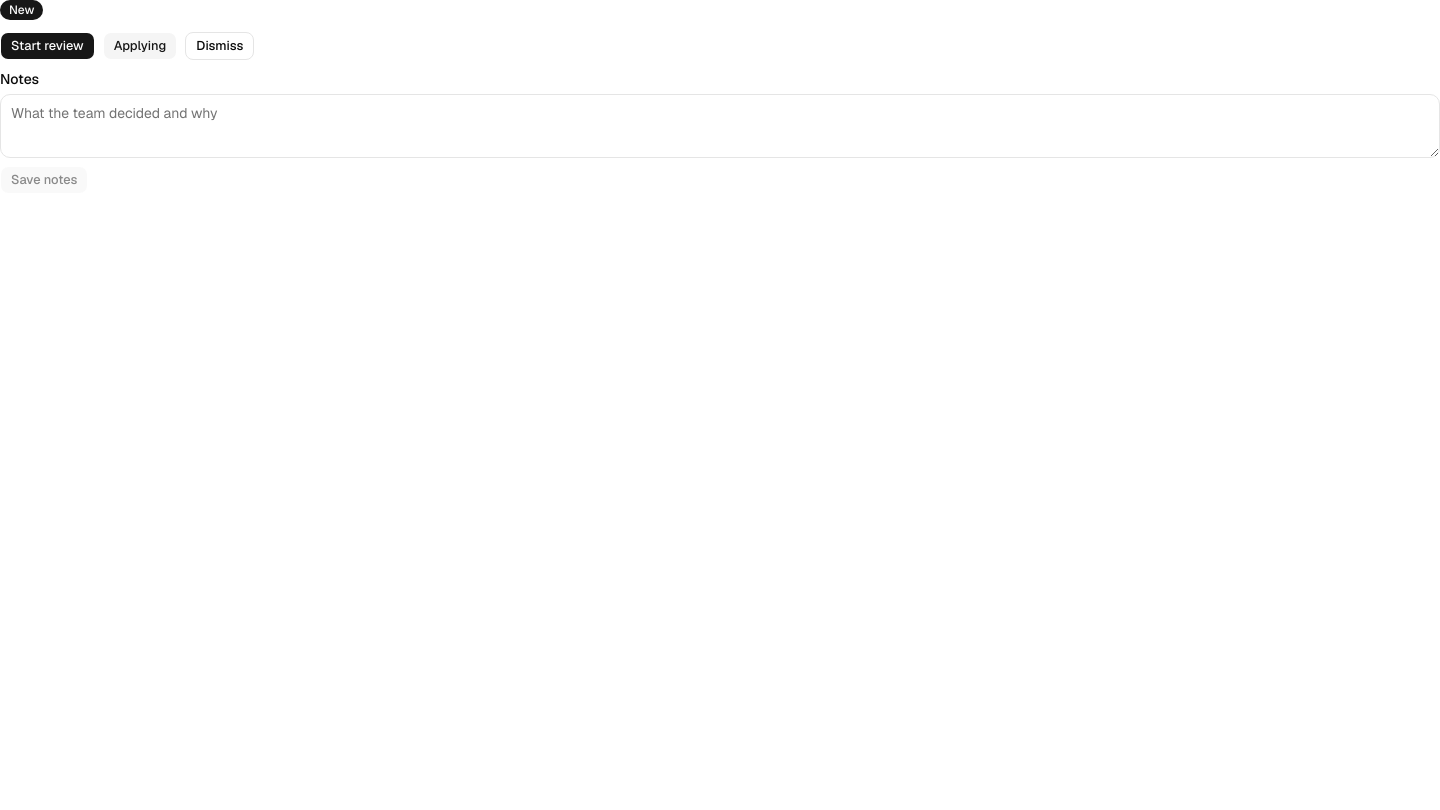
Test: MatchStatusControl › asks for a reason before dismissing
Click the button "Dismiss". click: (220, 46)
box: [185,32,254,60]
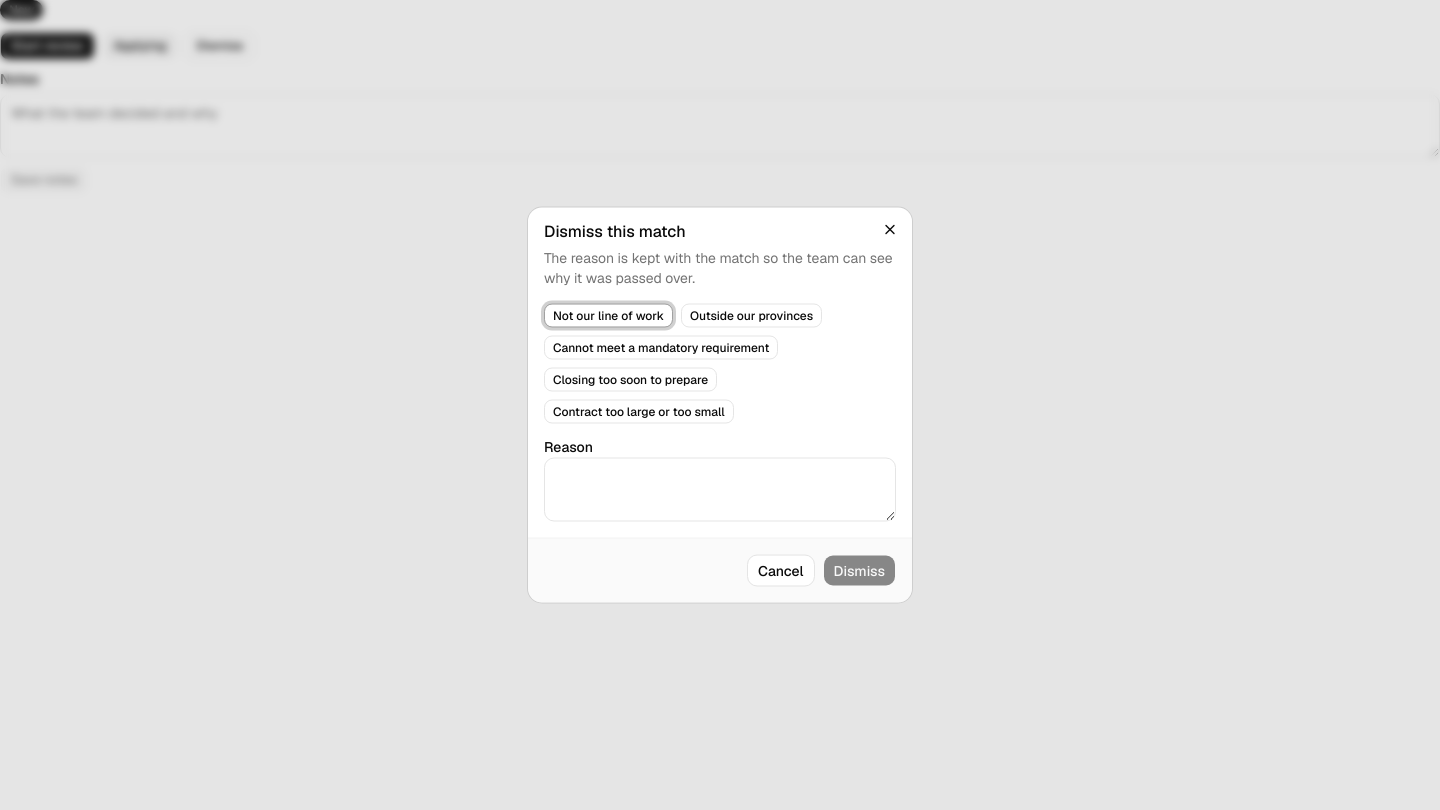
Check: the button "Dismiss" is disabled, box [823,554,896,586]
Click the button "Outside our provinces". click: (752, 316)
box: [681,304,822,328]
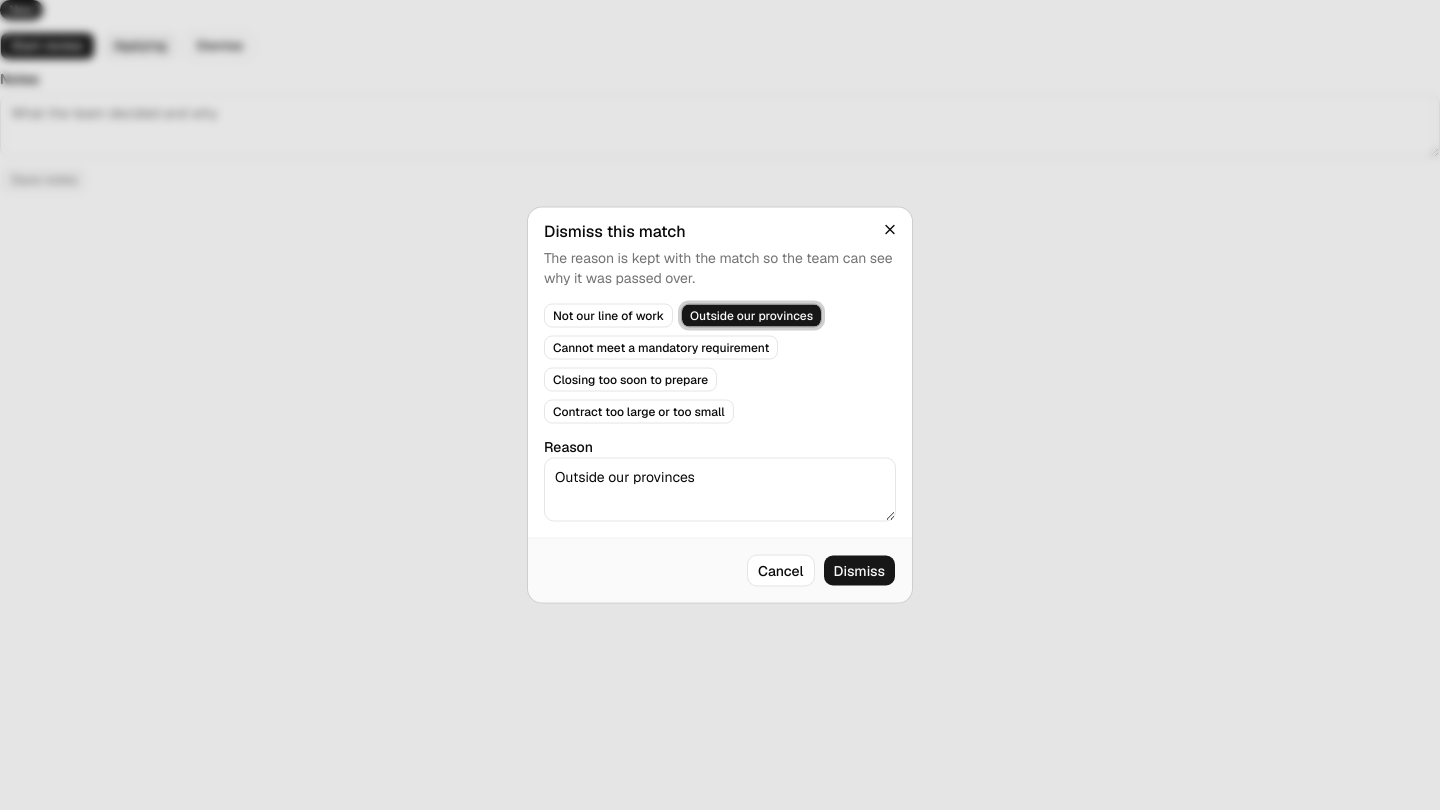
Click the button "Dismiss". click: (859, 570)
box: [823,554,896,586]
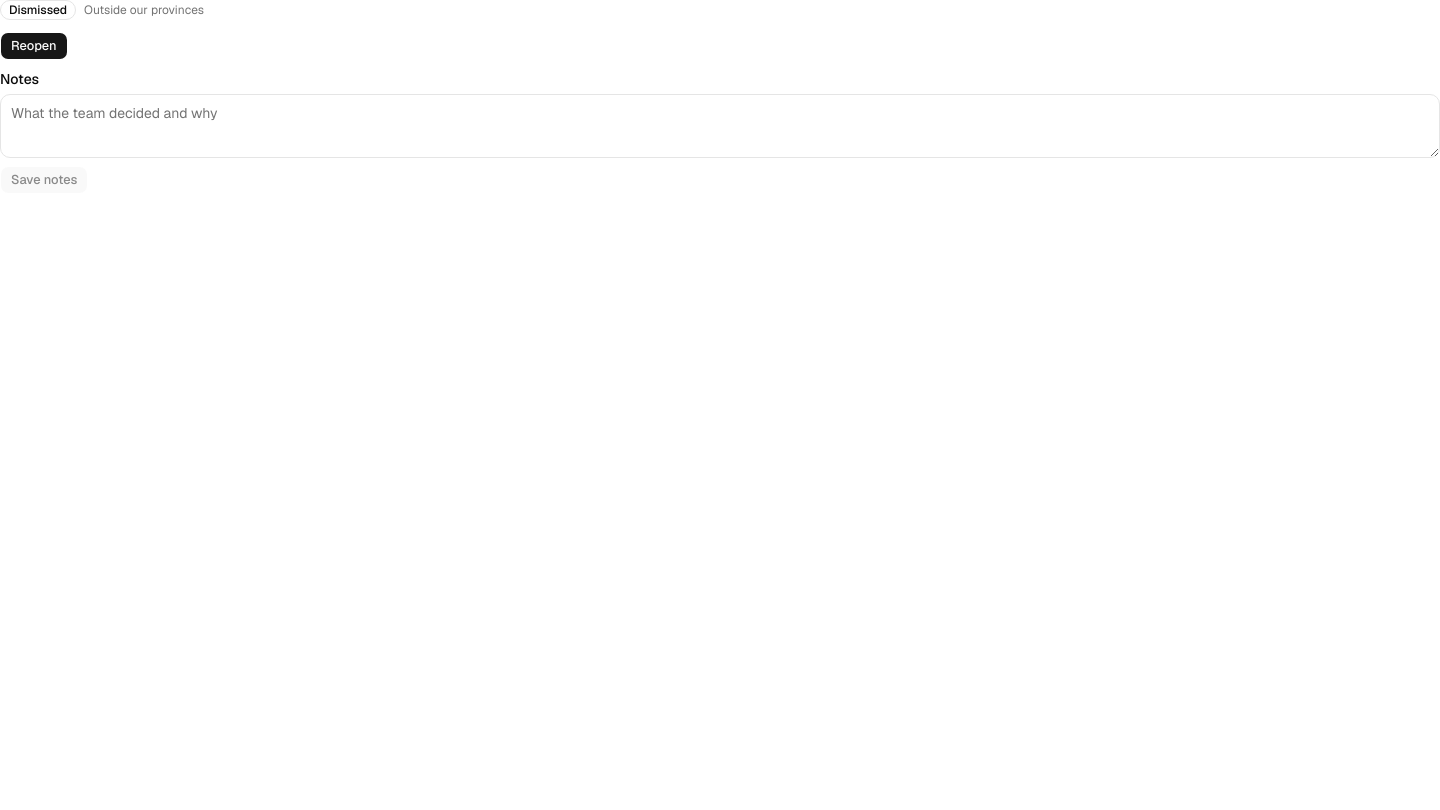
Check: the dialog is gone
Check: the text with test id "match-status" reads "Dismissed", box [9,2,67,18]
